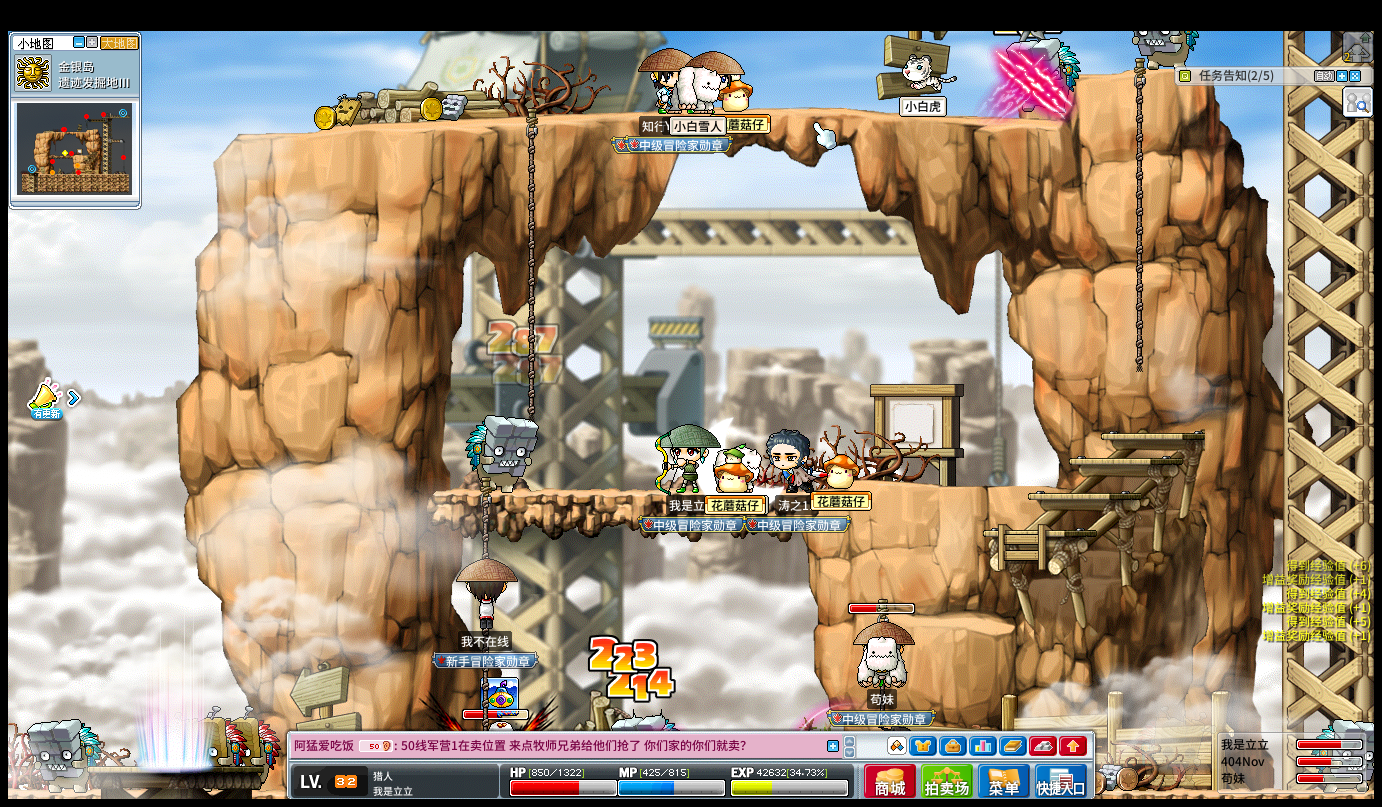floor: (223, 104, 1070, 142), (436, 488, 803, 500), (908, 612, 1015, 634), (893, 482, 1057, 492), (1100, 429, 1206, 441), (1079, 67, 1161, 79), (1064, 456, 1179, 464), (1028, 492, 1141, 500), (985, 528, 1095, 536)
monster: (1004, 35, 1080, 118), (200, 709, 276, 788), (466, 415, 540, 492), (27, 717, 101, 791)
rope: (1133, 53, 1149, 375), (524, 105, 535, 407), (476, 483, 492, 560)
